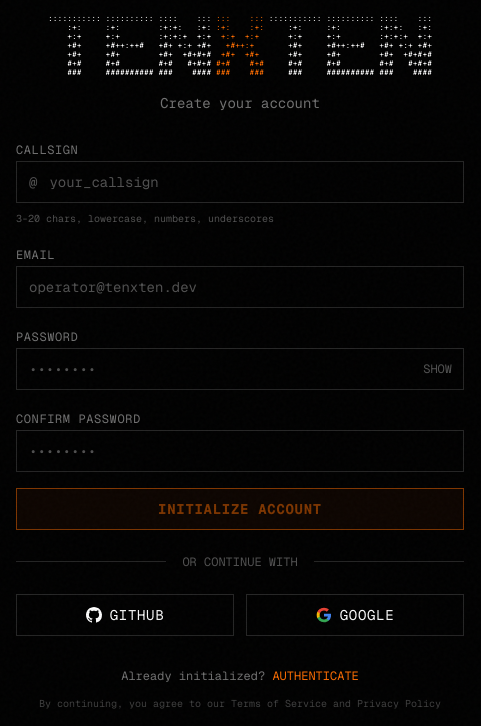
Test: Signup Page › should validate callsign on blur
In the field labelled "Callsign": (256, 182) top-left (49, 162), bottom-right (463, 202), type "ab"
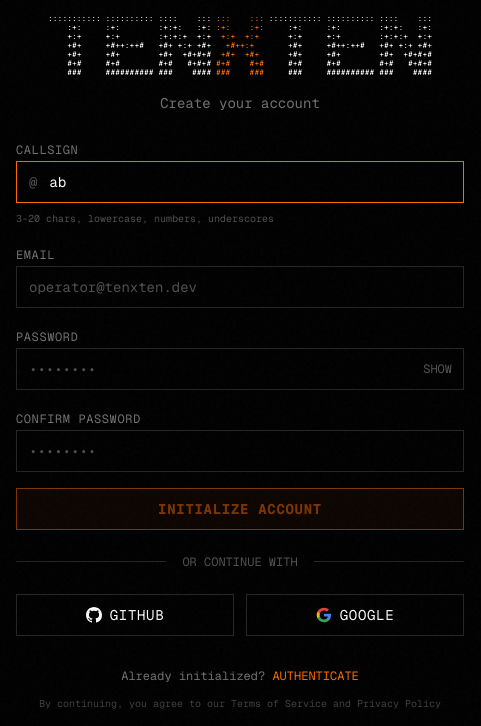
Press Tab
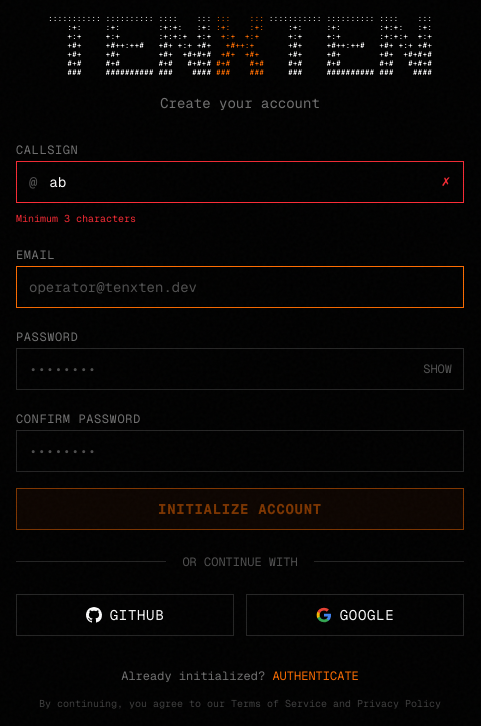
expect the text "Minimum 3 characters" is shown: met, box top-left (16, 212), bottom-right (136, 224)
